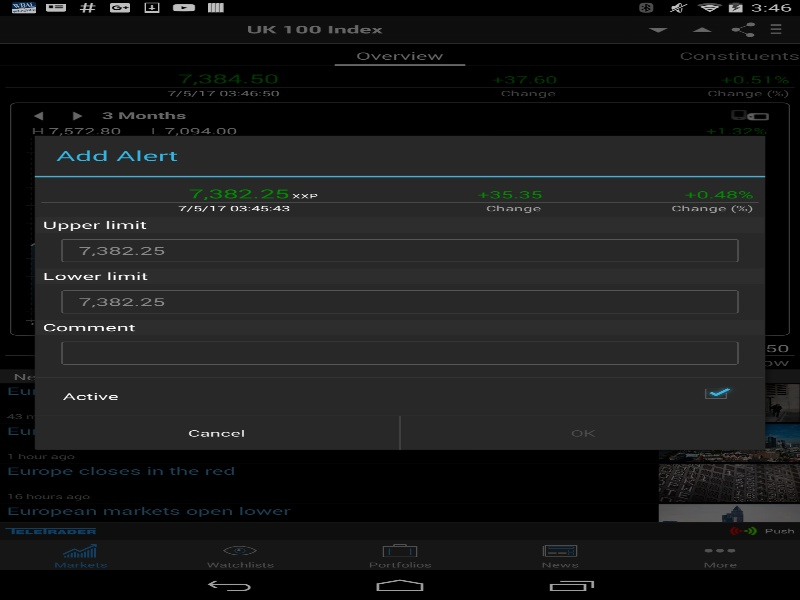Button: (34, 416, 399, 450), (400, 416, 765, 450)
Input: (61, 239, 738, 262), (61, 290, 738, 313), (61, 341, 738, 364)
